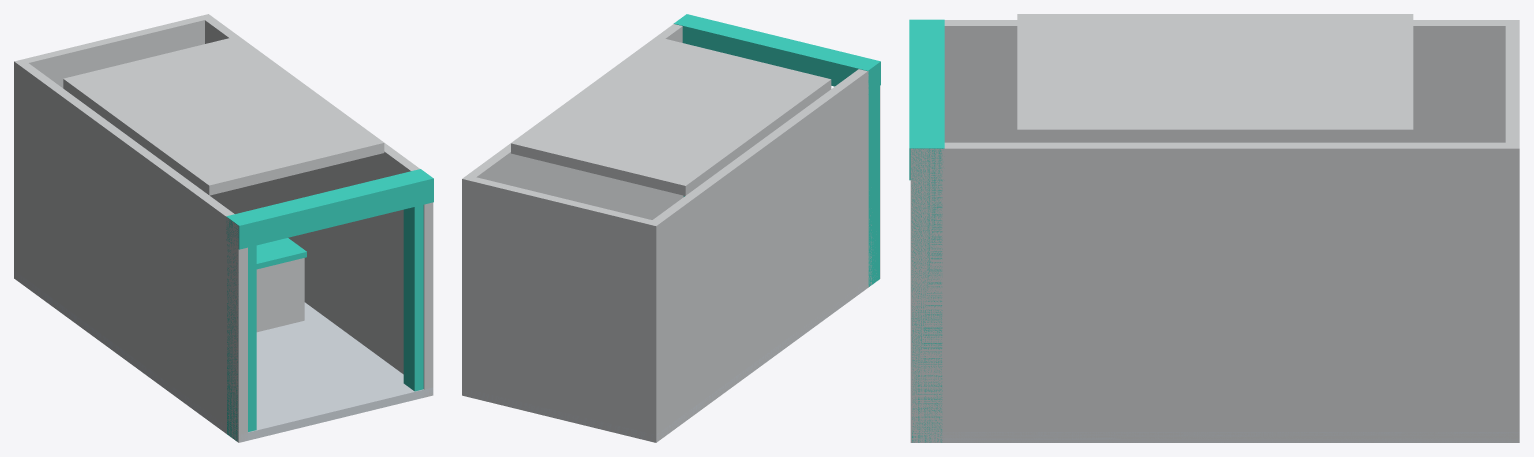
3 renders of one model, left to right at view 1: azimuth 30°, elevation 25°; view 2: azimuth 150°, elevation 25°; view 3: azimuth 270°, elevation 25°, orthographic. The views are drawn at different scales.
Visible parts, largest first — view 1: Exhibition Booth Concept; view 2: Exhibition Booth Concept; view 3: Exhibition Booth Concept.
Part boxes in pixels (<box>): Exhibition Booth Concept: <box>14,14,433,442</box>; Exhibition Booth Concept: <box>462,14,880,442</box>; Exhibition Booth Concept: <box>909,14,1519,442</box>.
Bounding box in the file's own units: 3 × 3.34 × 6.02.
